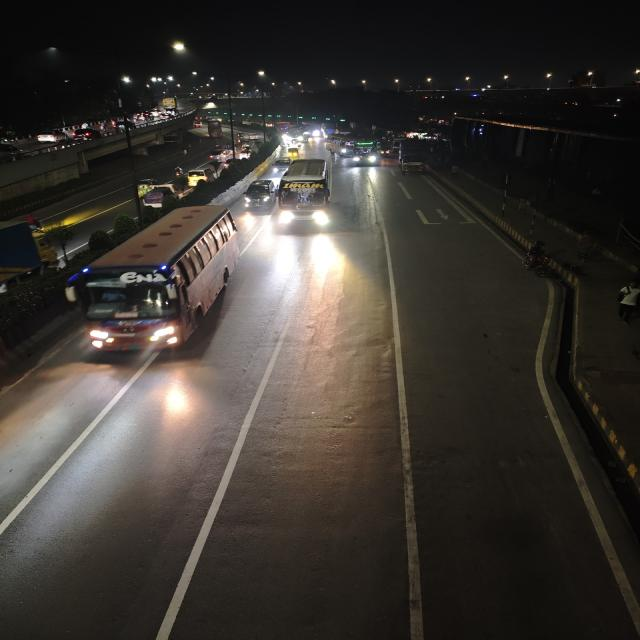bus: (78, 202, 237, 358), (276, 156, 336, 234), (324, 133, 374, 159), (349, 138, 379, 168), (324, 133, 352, 157), (205, 121, 224, 139)
car: (241, 178, 274, 214), (0, 140, 25, 167), (186, 167, 211, 187), (269, 157, 292, 175), (36, 130, 63, 143), (74, 129, 98, 141), (208, 148, 228, 162), (245, 131, 260, 141)
cng: (135, 176, 158, 193), (287, 146, 301, 160)
motorcycle: (520, 241, 558, 279)
pedestrian: (612, 276, 640, 331)
pickup_van: (142, 181, 180, 208)
truck: (0, 215, 62, 297), (394, 140, 430, 178)
